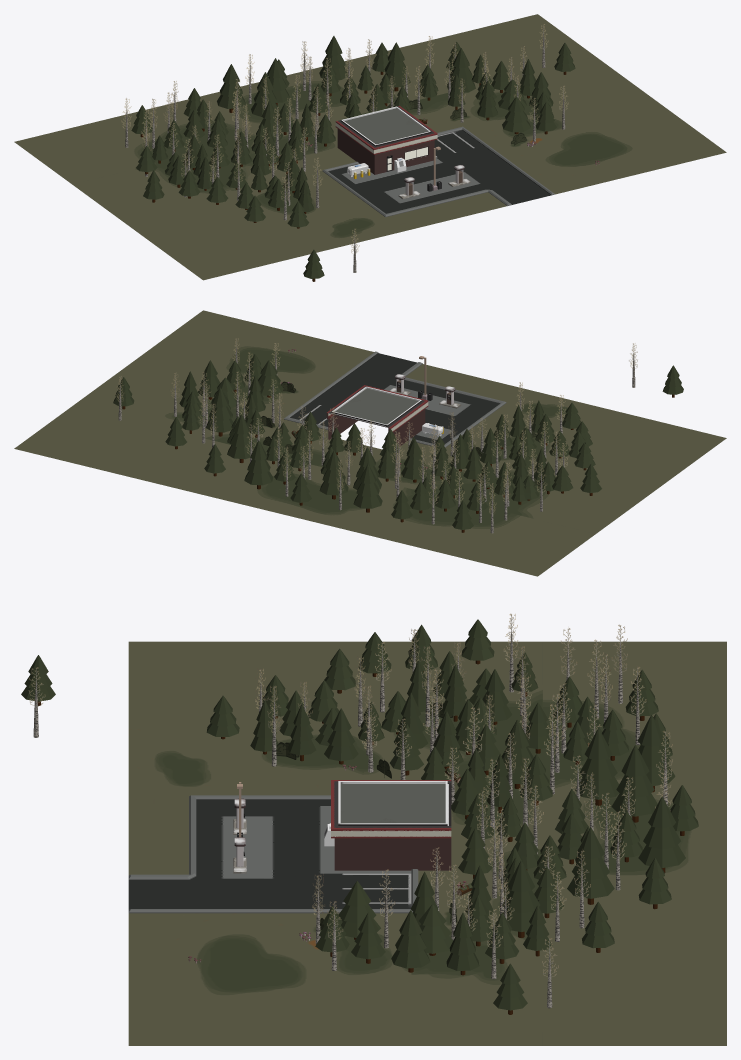
The model's file is outside.glb.
The picture shows the model from 3 angles, top to bottom: view 1: azimuth 30°, elevation 25°; view 2: azimuth 150°, elevation 25°; view 3: azimuth 270°, elevation 25°; orthographic projection. The views are drawn at different scales.
Visible parts, largest first — view 1: mainPavement.001-col, mainPavement-col, tree.001-col, birchTreeLeaves.001-col, gasStation-col, birchTreeTrunk.001-col, gasPump-col; view 2: mainPavement.001-col, tree.001-col, mainPavement-col, birchTreeLeaves.001-col, birchTreeTrunk.001-col, gasStation-col, bushes, gasPump-col; view 3: mainPavement.001-col, mainPavement-col, tree.001-col, birchTreeLeaves.001-col, gasStation-col, birchTreeTrunk.001-col, gasPump-col.
Part boxes in pixels (left/top/right/bottom): mainPavement.001-col: left=14, top=14, right=726, bottom=280; mainPavement-col: left=206, top=74, right=660, bottom=252; tree.001-col: left=131, top=36, right=575, bottom=281; birchTreeLeaves.001-col: left=121, top=24, right=568, bottom=253; gasStation-col: left=335, top=106, right=437, bottom=174; birchTreeTrunk.001-col: left=125, top=33, right=565, bottom=272; gasPump-col: left=398, top=165, right=470, bottom=199; mainPavement.001-col: left=14, top=310, right=726, bottom=576; tree.001-col: left=113, top=354, right=683, bottom=532; mainPavement-col: left=138, top=326, right=613, bottom=503; birchTreeLeaves.001-col: left=115, top=338, right=637, bottom=514; birchTreeTrunk.001-col: left=118, top=347, right=635, bottom=533; gasStation-col: left=326, top=385, right=428, bottom=446; bushes: left=260, top=381, right=538, bottom=485; gasPump-col: left=390, top=374, right=461, bottom=408; mainPavement.001-col: left=128, top=641, right=726, bottom=1045; mainPavement-col: left=128, top=729, right=542, bottom=995; tree.001-col: left=21, top=619, right=698, bottom=1014; birchTreeLeaves.001-col: left=28, top=613, right=672, bottom=977; gasStation-col: left=331, top=780, right=451, bottom=870; birchTreeTrunk.001-col: left=33, top=631, right=667, bottom=1008; gasPump-col: left=233, top=798, right=246, bottom=873.
Size of the model in its own units: 80.02 by 9.01 by 59.67.
17 materials, 17 textured.
